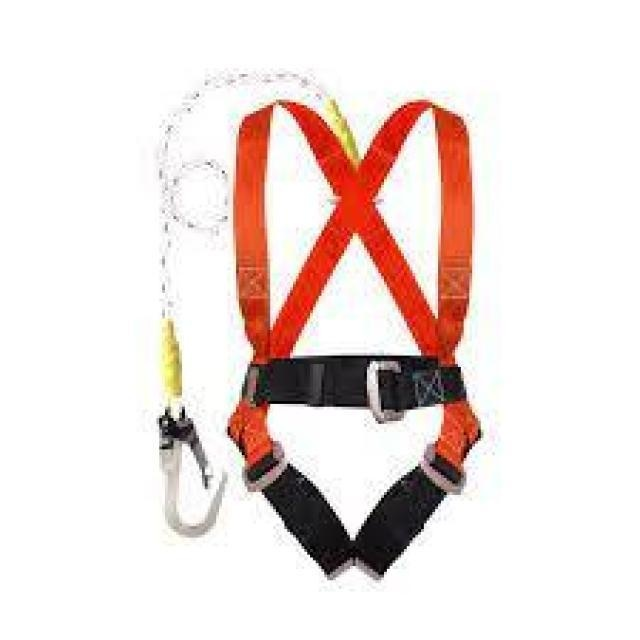Arnes_seguridad: (231, 94, 482, 581)
